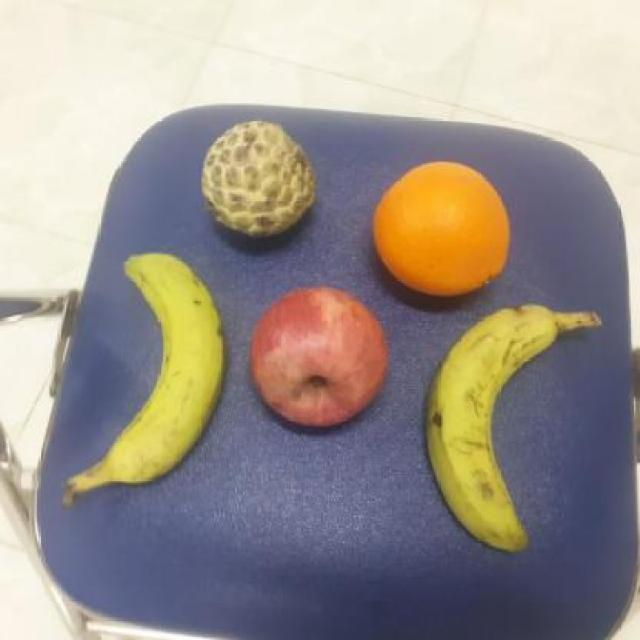apple: (245, 285, 390, 430)
banana: (419, 303, 556, 552), (94, 248, 228, 494)
oren: (370, 157, 512, 298)
sugar apple: (198, 114, 320, 238)
